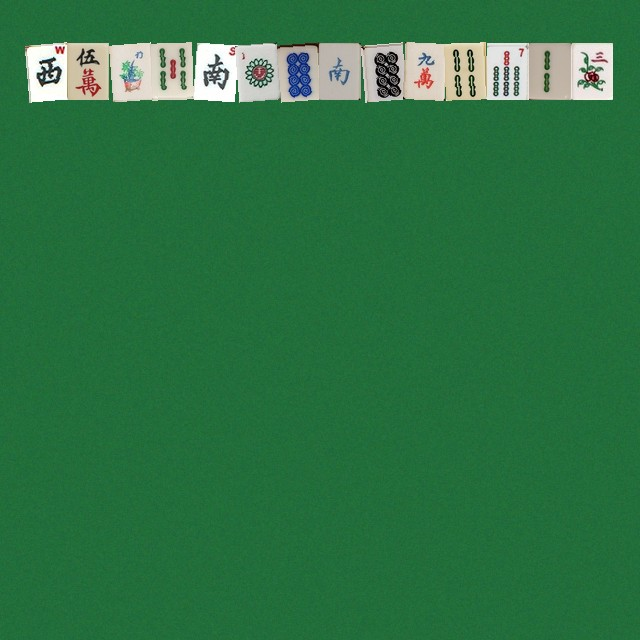tile: (24, 42, 66, 99), (66, 42, 108, 99), (108, 42, 150, 99), (150, 42, 192, 99), (192, 42, 234, 99), (234, 42, 276, 99), (276, 42, 318, 99), (318, 42, 360, 99), (360, 42, 402, 99), (402, 42, 444, 99), (444, 42, 486, 99), (486, 42, 528, 99), (528, 42, 570, 99), (570, 42, 612, 99)
